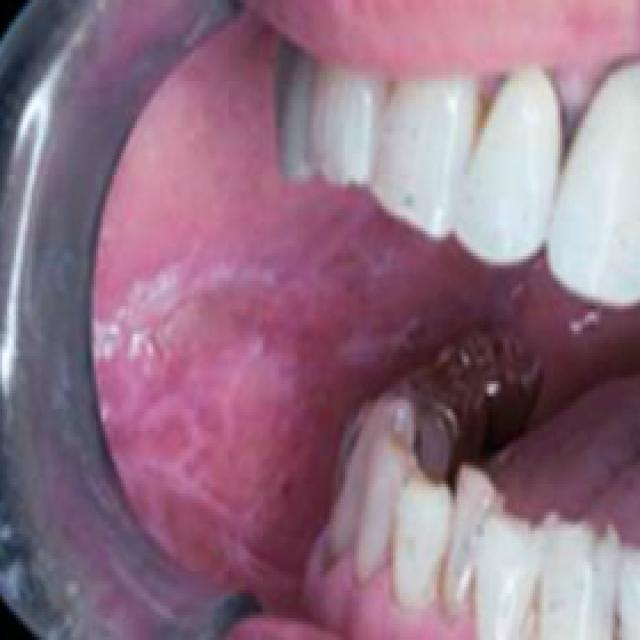Cancer: (160, 248, 317, 488)
